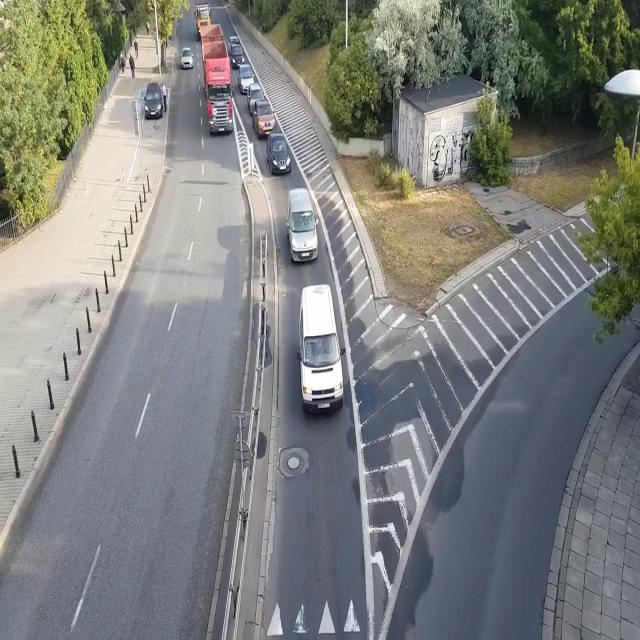car: (266, 132, 292, 173), (252, 98, 276, 137), (144, 82, 163, 119), (247, 83, 265, 114), (238, 64, 255, 95), (230, 43, 245, 70), (180, 47, 194, 69), (228, 36, 240, 54)
truck: (199, 24, 235, 134), (194, 0, 212, 41)
van: (297, 284, 346, 414), (286, 188, 319, 262)
